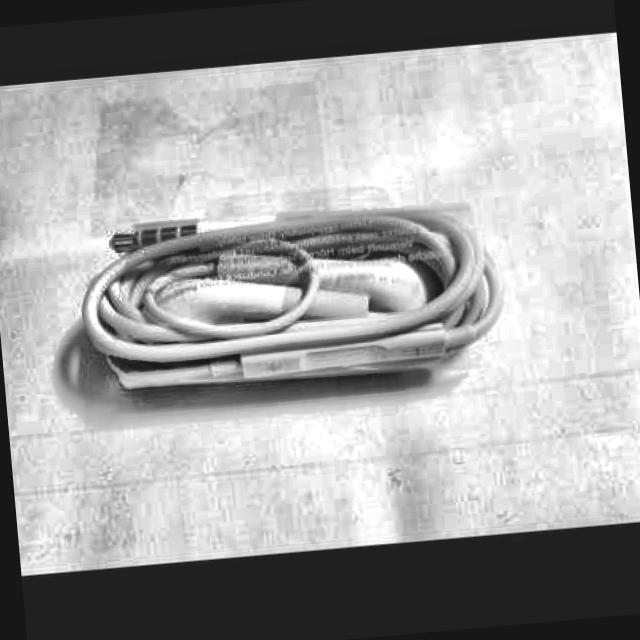Cable: (74, 192, 506, 399)
